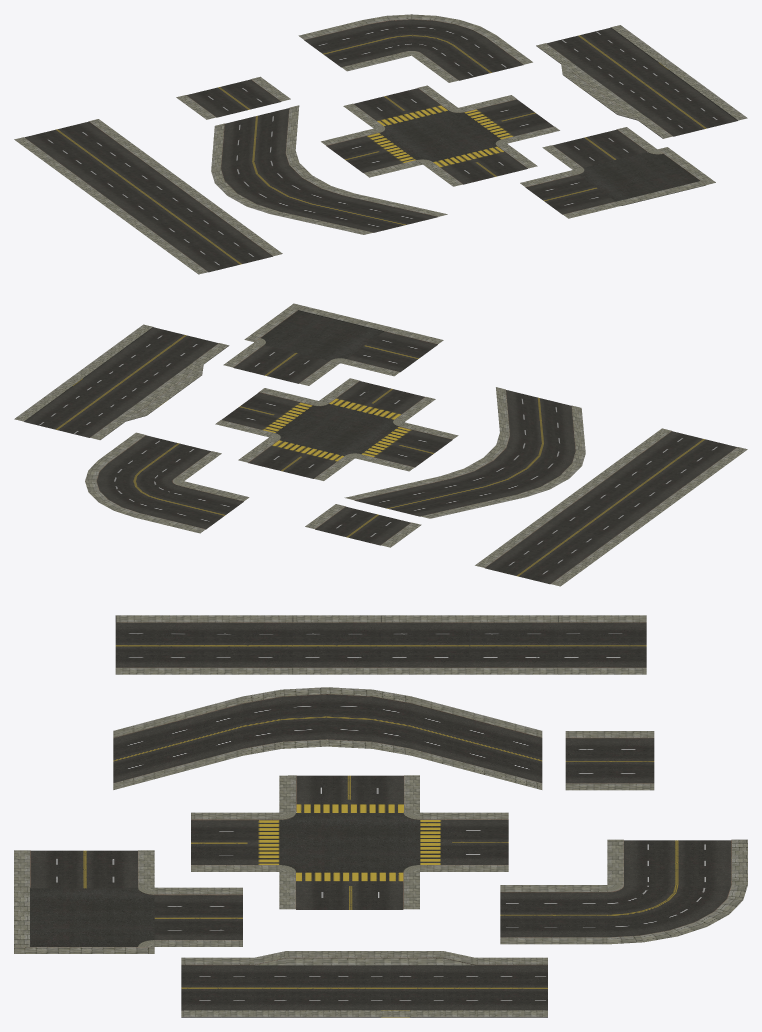
Rendered from RoadComplete.fbx.
3 views of the same model, one above another, from view 1: azimuth 30°, elevation 25°; view 2: azimuth 150°, elevation 25°; view 3: azimuth 270°, elevation 25° (orthographic). The views are drawn at different scales.
Parts seen in each view (by area): view 1: Plane.017, Plane.006, Plane.003, Plane.019, Plane.005, Plane.011, Plane.002; view 2: Plane.017, Plane.006, Plane.003, Plane.019, Plane.005, Plane.011, Plane.002; view 3: Plane.017, Plane.006, Plane.003, Plane.019, Plane.005, Plane.011, Plane.002.
Boxes of the visible parts, left/top/right/bottom form: Plane.017: left=14, top=119, right=282, bottom=274; Plane.006: left=321, top=85, right=559, bottom=186; Plane.003: left=211, top=105, right=447, bottom=234; Plane.019: left=536, top=25, right=747, bottom=138; Plane.005: left=520, top=127, right=715, bottom=218; Plane.011: left=298, top=14, right=532, bottom=82; Plane.002: left=176, top=76, right=290, bottom=119; Plane.017: left=475, top=428, right=747, bottom=586; Plane.006: left=215, top=378, right=458, bottom=480; Plane.003: left=344, top=387, right=585, bottom=518; Plane.019: left=14, top=324, right=229, bottom=439; Plane.005: left=223, top=303, right=443, bottom=385; Plane.011: left=85, top=432, right=249, bottom=533; Plane.002: left=305, top=504, right=421, bottom=547; Plane.017: left=115, top=615, right=646, bottom=674; Plane.006: left=191, top=775, right=508, bottom=909; Plane.003: left=113, top=687, right=542, bottom=789; Plane.019: left=181, top=951, right=547, bottom=1017; Plane.005: left=14, top=850, right=242, bottom=953; Plane.011: left=500, top=839, right=747, bottom=944; Plane.002: left=565, top=731, right=654, bottom=790.
Bounding box in the file's own units: 1773 × 1 × 1369.
1 material, 1 textured.
